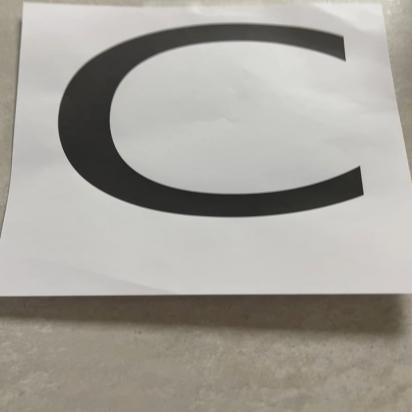seat: (20, 0, 412, 296)
